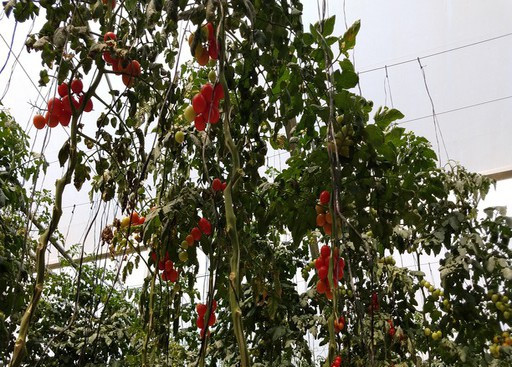green tomato bunch: (419, 280, 452, 309), (486, 287, 511, 318), (490, 331, 512, 355)
mixed tomato bunch: (177, 84, 227, 143), (179, 219, 213, 261), (188, 22, 220, 64), (315, 192, 342, 239), (119, 212, 144, 232)
red tomato bunch: (34, 79, 94, 129), (101, 32, 141, 87), (315, 246, 343, 297), (151, 248, 179, 282), (196, 300, 217, 344), (209, 178, 232, 194), (334, 314, 346, 331), (329, 355, 342, 367)
